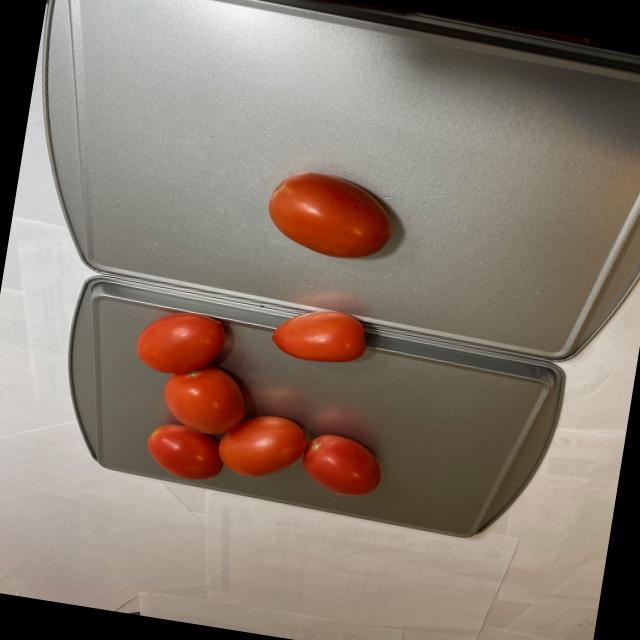tomato: (113, 282, 410, 510), (256, 164, 401, 268)
